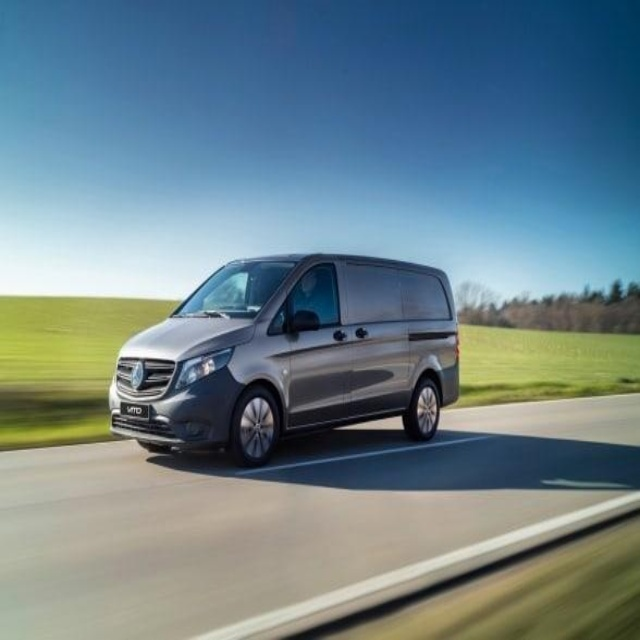Van: (108, 253, 460, 470)
